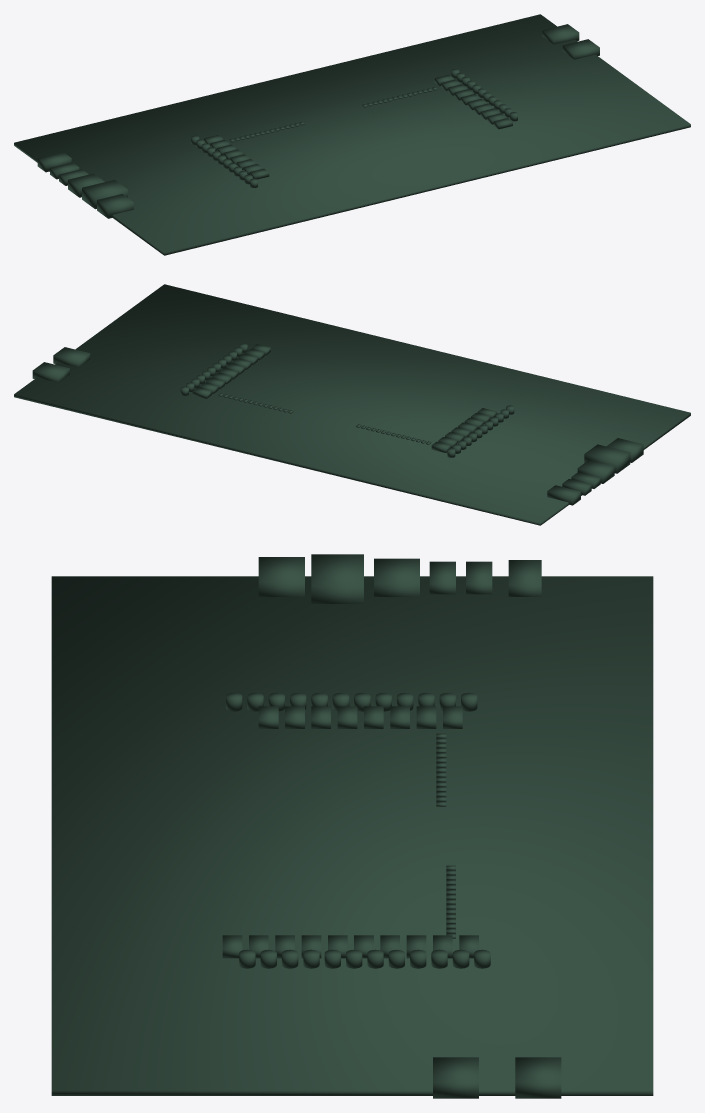
The model's file is pcb.obj.
3 views of the same model, one above another, from view 1: azimuth 30°, elevation 25°; view 2: azimuth 150°, elevation 25°; view 3: azimuth 270°, elevation 25° (orthographic). The views are drawn at different scales.
Parts seen in each view (by area): view 1: pcb; view 2: pcb; view 3: pcb.
Part boxes in pixels (x1,y1,x2,y2): pcb: (14, 14, 690, 255); pcb: (14, 284, 690, 525); pcb: (51, 554, 653, 1098).
Size of the model in its own units: 376 by 8 by 183.
